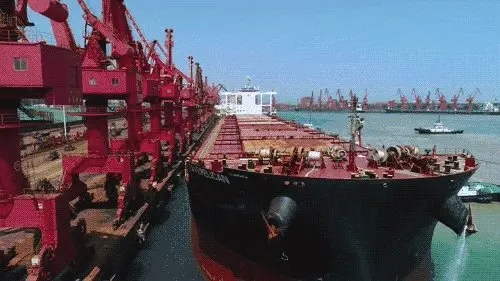Cargoship: (175, 63, 478, 278)
otherboat: (415, 116, 465, 135)
